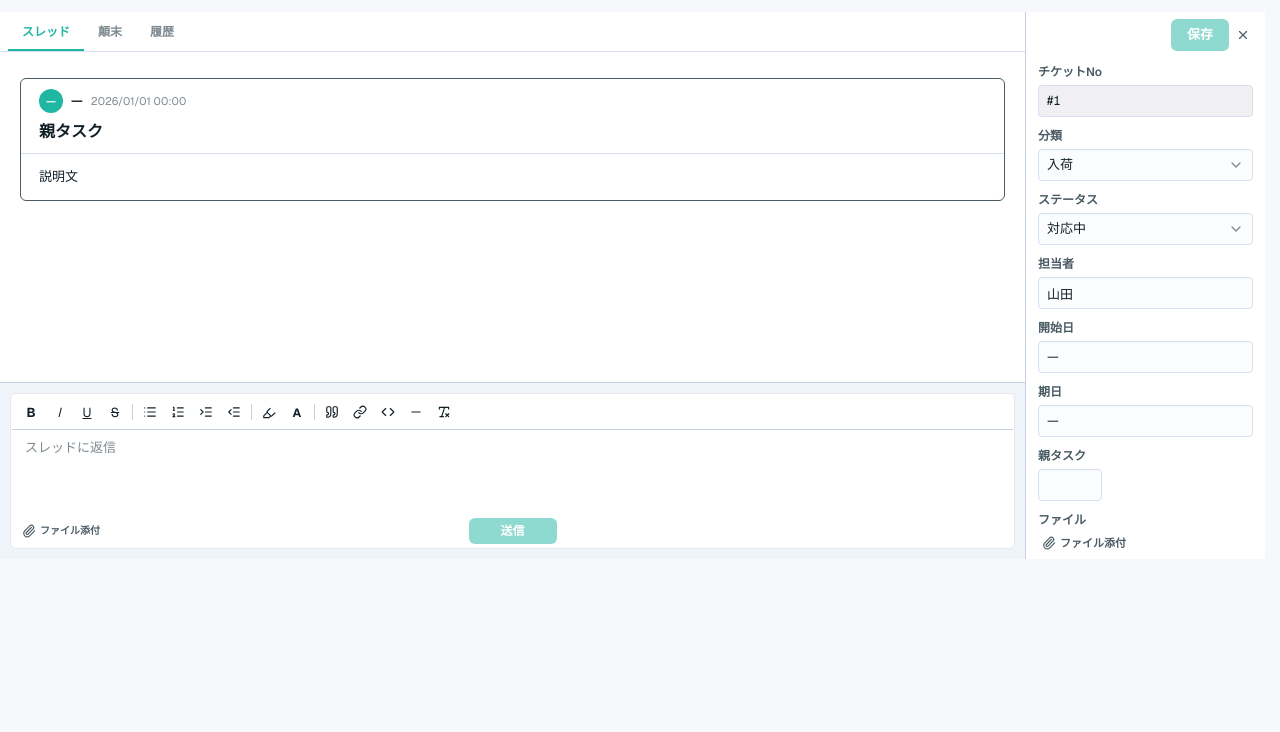
Scenario: TaskDetailOverlay — 親付け替え（rete-desk-0071） › 親 No 手入力で一致する親の題名ラベルが枠外に出ること（rete-desk-0179）
Expected: the text "別の親" is not shown
Step 1. Type "5" into the field named "親タスクのチケットNo" → [1070, 485], box [1038,469,1102,501]
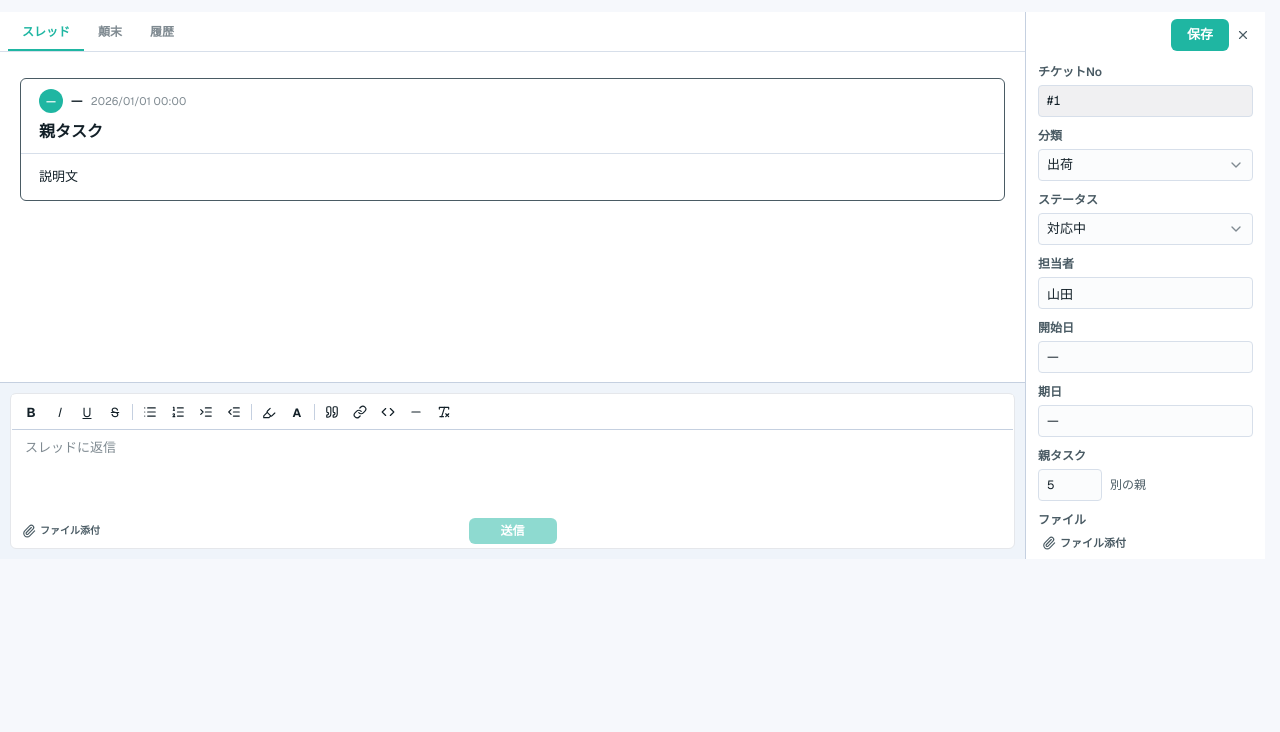
Expected: the text "別の親" is shown, [1110,477,1146,493]
